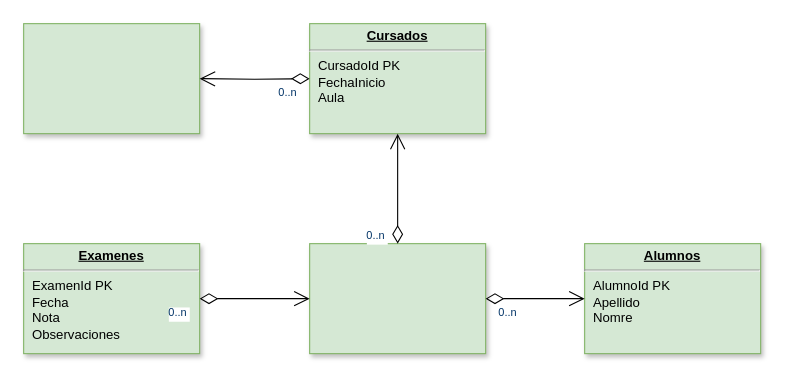
Image size: 787x381. Some labels were removed from this diagram. The centre of each missing label's shape, as x and y in pixels:
Cursos CursoId PK Codigo Nombre: point 112,79
Inscripciones InscripcionId PK FechaInscripcion: point 398,299
